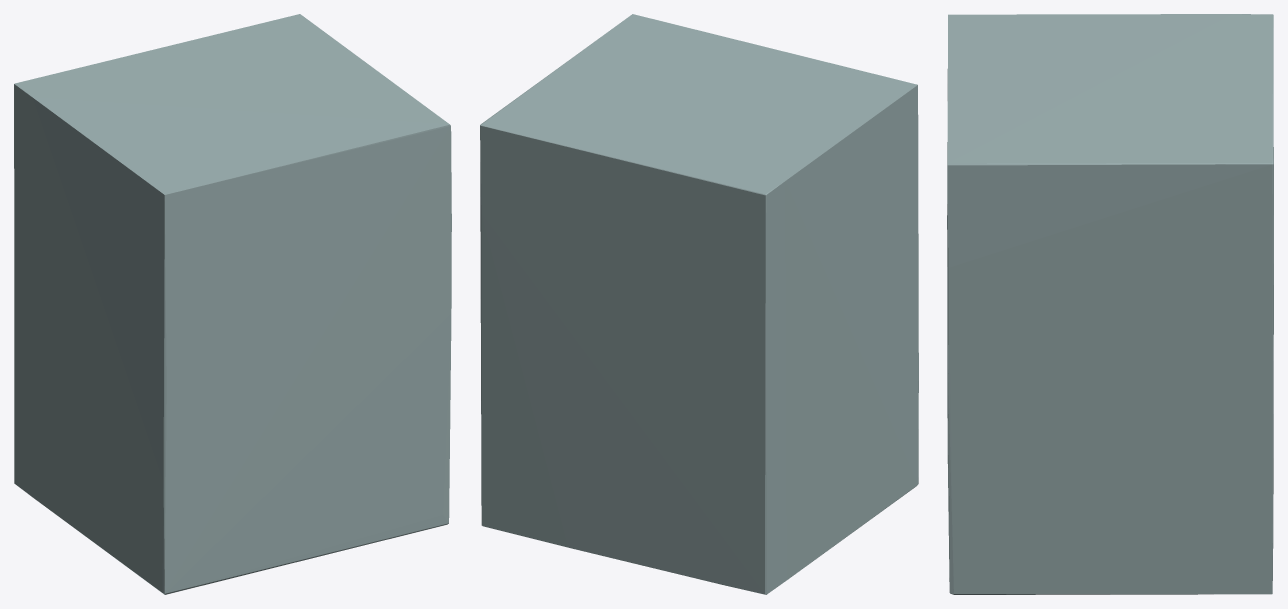
File: box_corrugated_white_a36.glb
3 views of the same model, side by side, from view 1: azimuth 30°, elevation 25°; view 2: azimuth 150°, elevation 25°; view 3: azimuth 270°, elevation 25° (orthographic). The views are drawn at different scales.
Parts seen in each view (by area): view 1: geometry_0; view 2: geometry_0; view 3: geometry_0.
Part boxes in pixels (bbox=[...]): geometry_0: bbox=[14, 14, 451, 594]; geometry_0: bbox=[480, 14, 918, 594]; geometry_0: bbox=[947, 14, 1273, 594].
Size of the model in its own units: 0.3585 by 0.478 by 0.3269.
